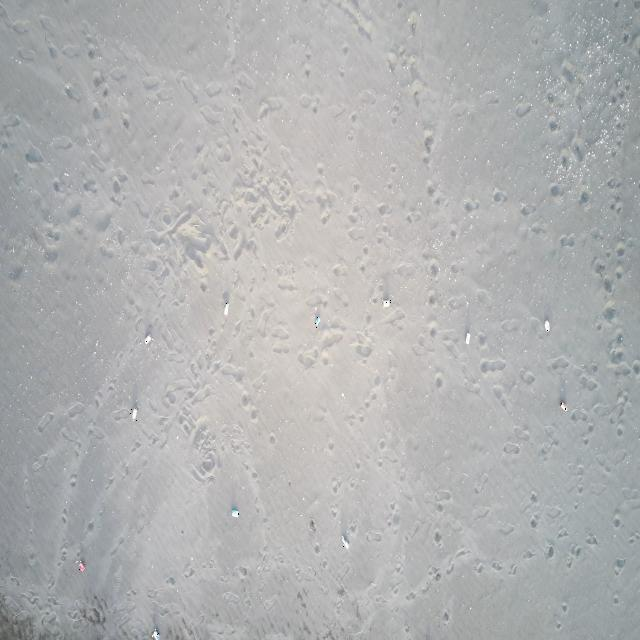Garbage: (340, 533, 347, 548), (151, 627, 159, 639), (143, 333, 151, 344), (76, 560, 83, 572), (560, 400, 567, 411), (313, 315, 319, 327), (464, 332, 470, 344), (131, 407, 136, 420), (231, 507, 238, 516), (383, 298, 390, 307), (223, 300, 227, 315), (544, 319, 547, 332)
